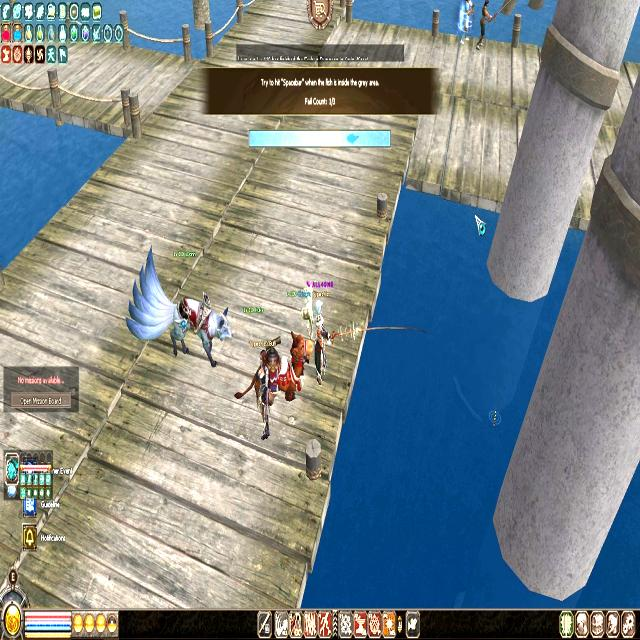box: (322, 131, 338, 145)
fishes: (346, 133, 359, 144)
